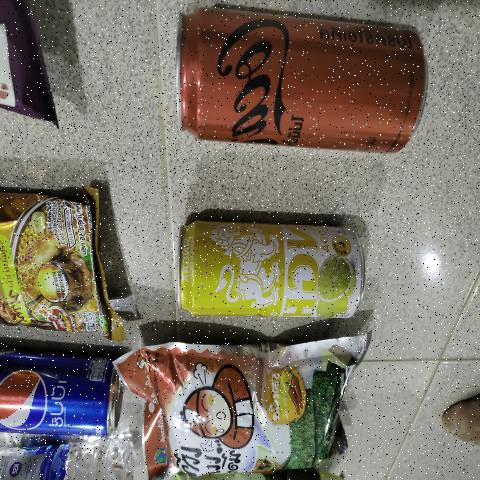coke_red: (168, 18, 438, 143)
pepsi_blue: (0, 362, 117, 434)
singha_yellow: (174, 214, 370, 319)
taokaenoi: (145, 325, 367, 480)
